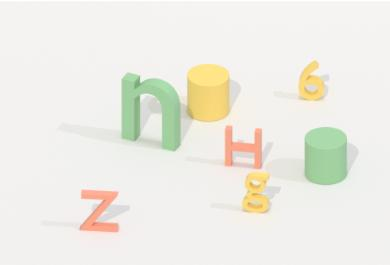0-KhoiTru: (299, 122, 353, 190), (182, 59, 236, 125)
6: (294, 57, 331, 103)
H: (220, 119, 266, 173)
Z: (75, 185, 125, 238)
g: (238, 168, 273, 217)
n: (117, 70, 185, 155)
